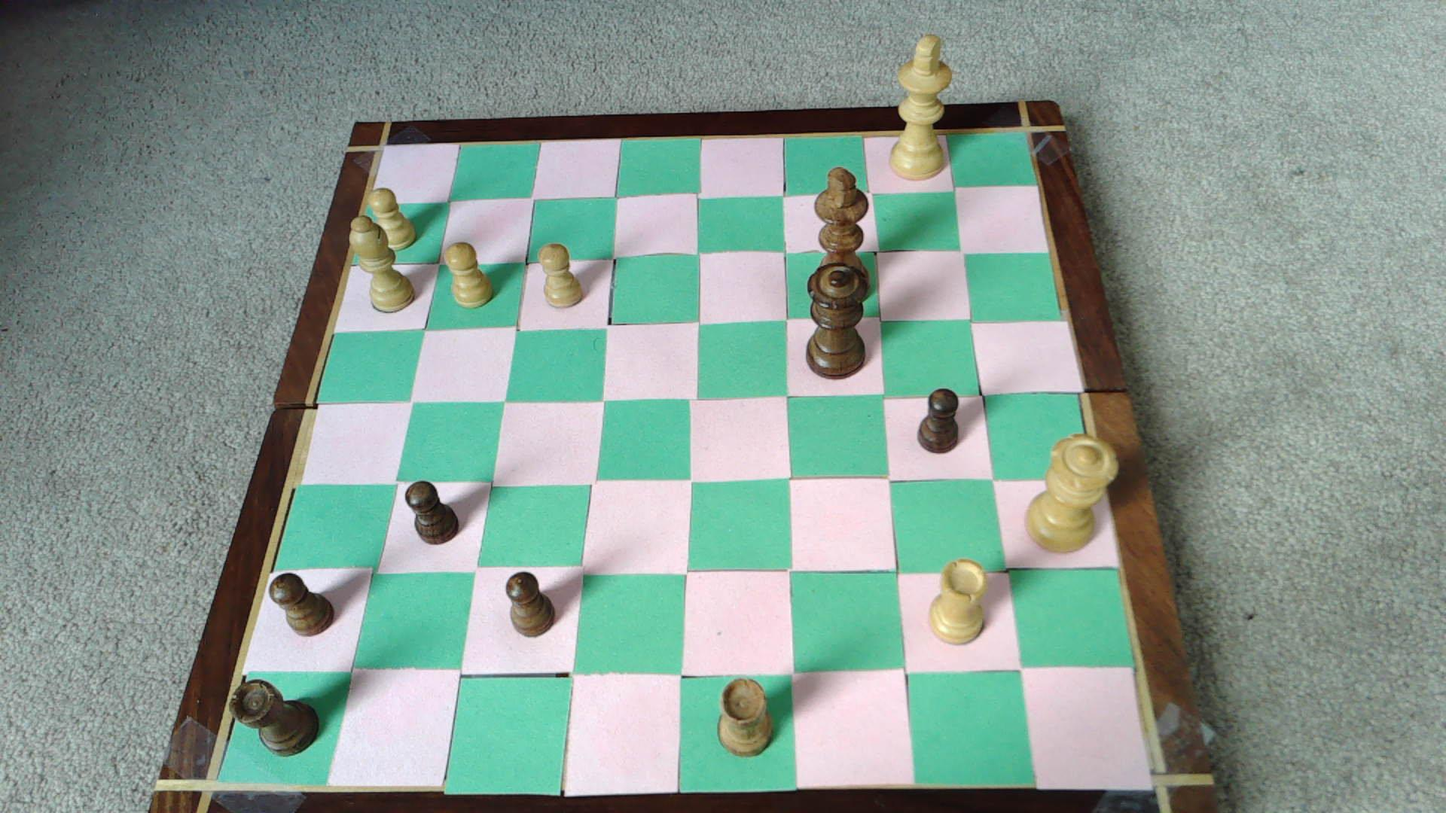dark_piece: (808, 166, 869, 306), (807, 266, 867, 377), (231, 680, 319, 754), (270, 573, 334, 635), (406, 481, 458, 544), (506, 571, 554, 636), (918, 388, 959, 452)
white_piece: (1027, 437, 1117, 551), (889, 33, 953, 180), (349, 214, 416, 312), (929, 558, 986, 643), (718, 677, 773, 755), (445, 242, 494, 307), (365, 188, 416, 250), (539, 243, 584, 307)
